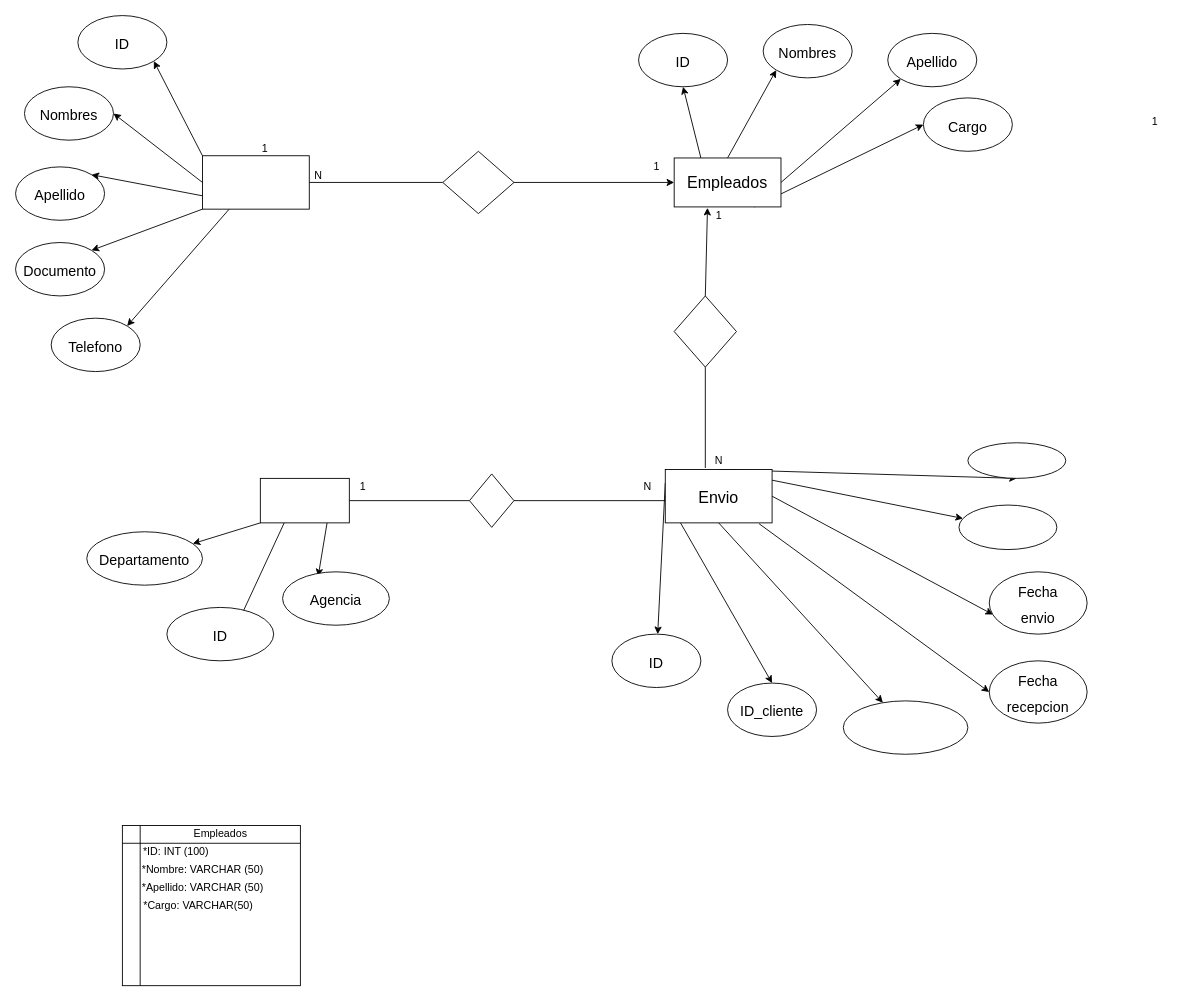
Some shapes in this 1179 by 1001 pixel diagram are drawn without their labels. Each missing label, with the centre of its shape:
"Ciudad" belongs at point (304, 500).
"clientes" belongs at point (255, 182).
"Estado" belongs at point (1016, 460).
"ID_Ciudad" belongs at point (1007, 527).
"nombre_destinatario" belongs at point (905, 727).
